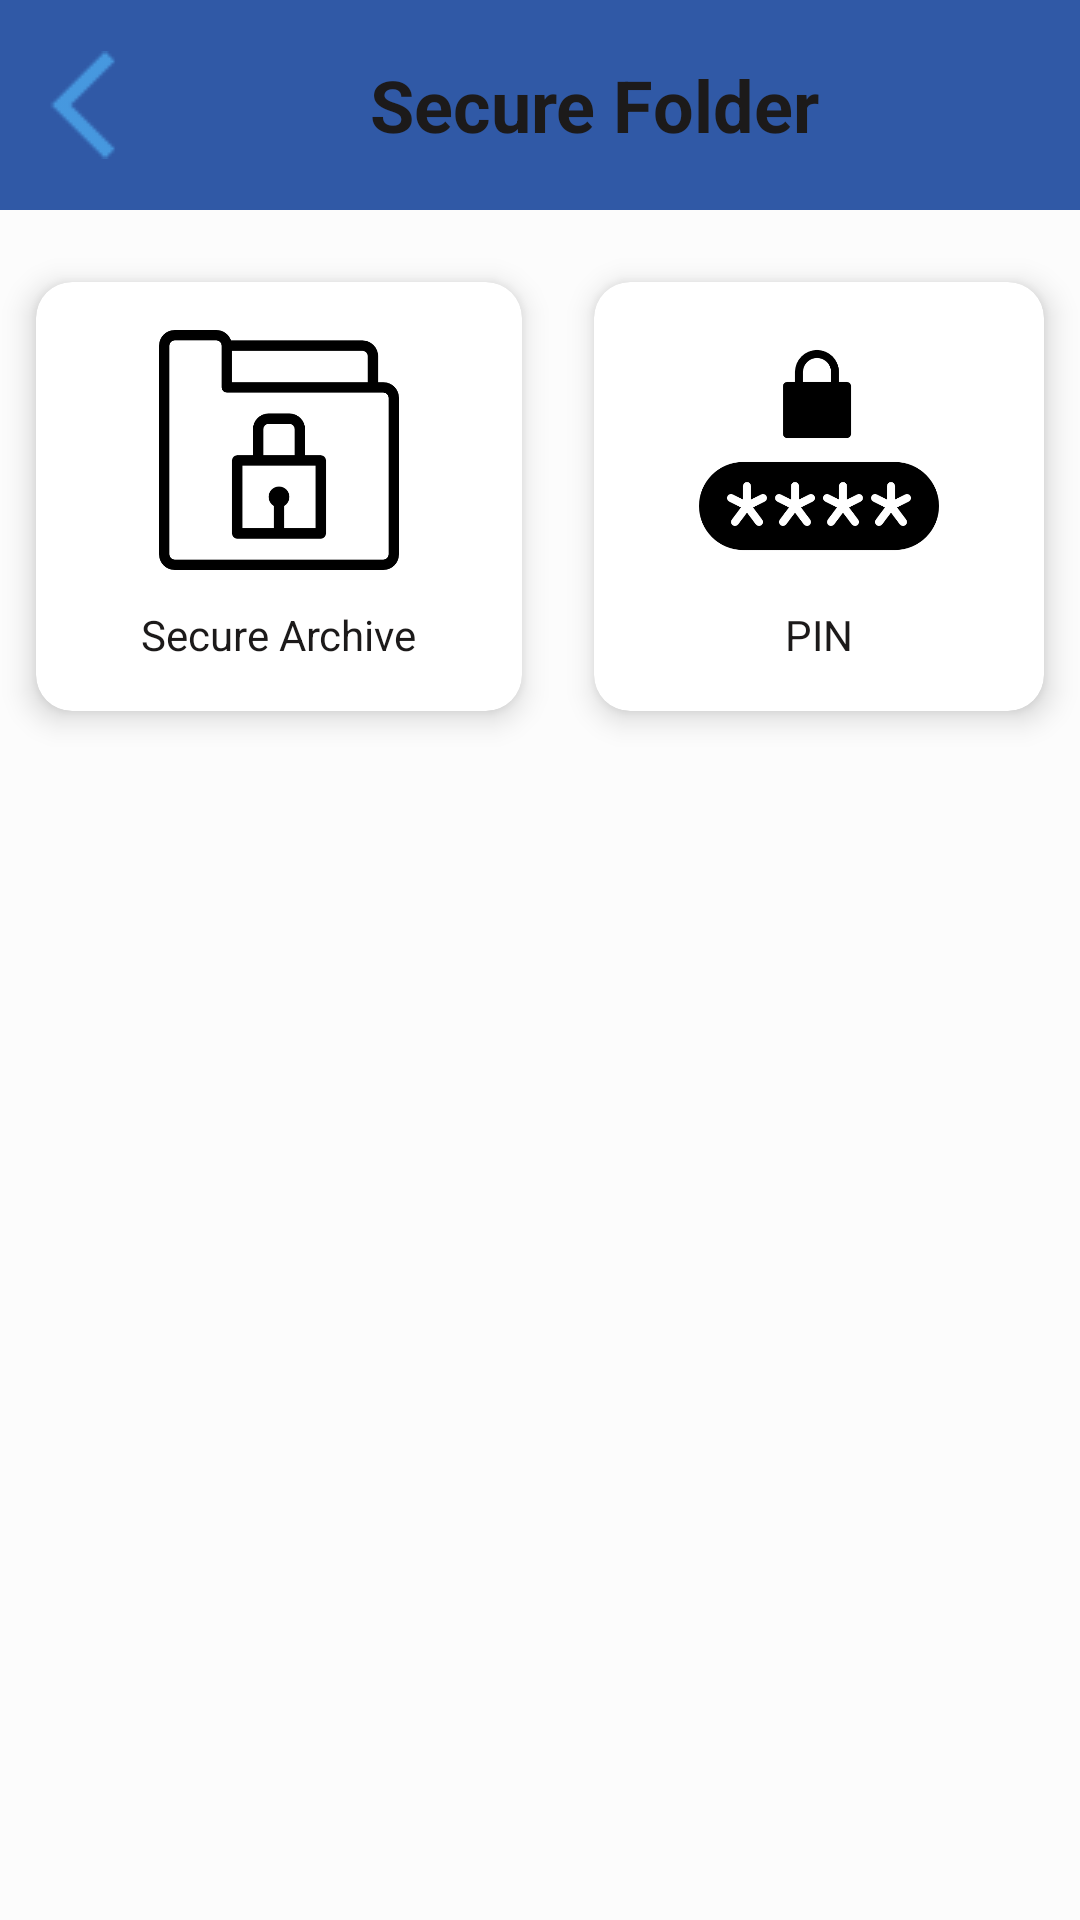

Where icons sit on this 1080px×1920px app screen, as (x1, y1, x2, y2):
back: (53, 53, 114, 157)
secure folder: (159, 330, 399, 570)
